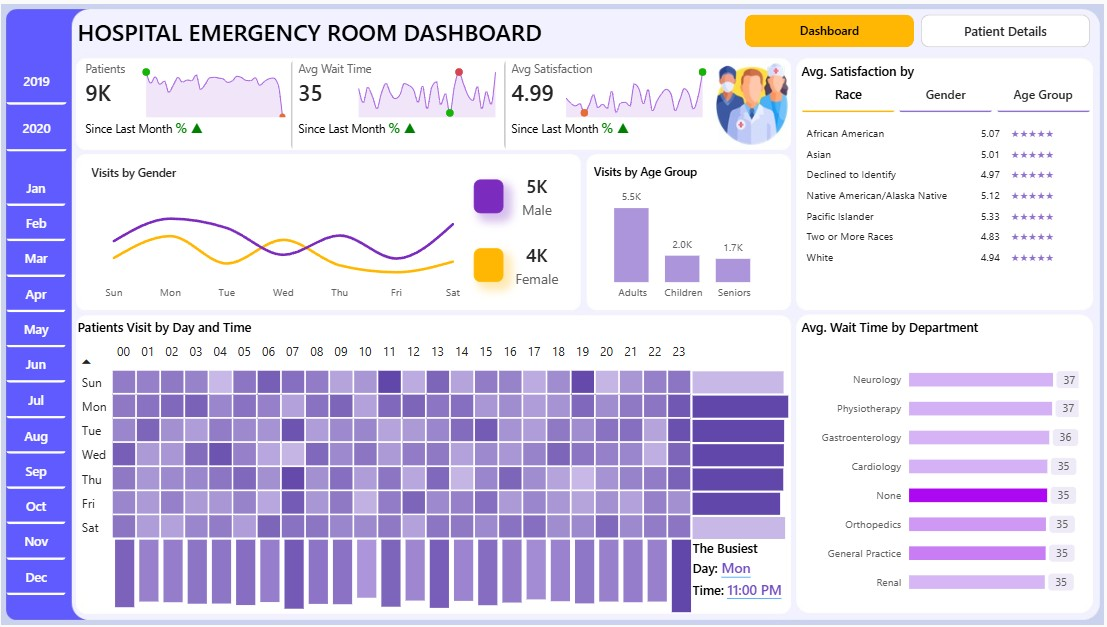

Layout of this report page (visuals, bound fields, positions):
{"tool":"powerbi","page":{"name":"Dashboard","canvas":[1920,1080],"ordinal":0},"visuals":[{"type":"advancedSlicerVisual","fields":{"Values":["Date Table.Year"]},"box":[325.7,238.9,70.6,108.6],"z":0},{"type":"advancedSlicerVisual","fields":{"Values":["Date Table.Month Name"]},"box":[326.8,370.1,69.3,495.6],"z":1000},{"type":"cardVisual","fields":{"Data":["_All Measures.Patients Visits","_All Measures.Avg Wait Time","_All Measures.Avg Satisfaction Score"]},"box":[408.5,239.4,736.2,108.5],"z":2000},{"type":"areaChart","fields":{"Category":["Date Table.Day"],"Y":["_All Measures.Patients Visit","_All Measures.Patients Visit Max Value","_All Measures.Patients Visit Min Value"]},"box":[461.7,227.7,210,95.7],"z":3000},{"type":"areaChart","fields":{"Category":["Date Table.Day"],"Y":["_All Measures.Avg Wait Time","_All Measures.Avg Wait Time Max Value","_All Measures.Avg Wait Time Min Value"]},"box":[708.5,227.7,210.6,95.7],"z":4000},{"type":"areaChart","fields":{"Category":["Date Table.Day"],"Y":["_All Measures.Avg Satisfaction Score","_All Measures.Avg Satisfaction Score Max Value","_All Measures.Avg Satisfaction Score Min Value"]},"box":[949.3,227.5,210.1,95.7],"z":5000},{"type":"lineChart","title":"Visits by Gender","fields":{"Category":["Date Table.Day Name"],"Series":["Hospital_ER.Gender"],"Y":["_All Measures.Patients Visit"]},"box":[408,348,477.3,192],"z":6000},{"type":"cardVisual","fields":{"Data":["_All Measures.Patients Visit"]},"box":[891.4,370.4,100,56.8],"z":7000},{"type":"cardVisual","fields":{"Data":["_All Measures.Patients Visit"]},"box":[891.4,450.6,100,56.8],"z":8000},{"type":"shape","box":[867.9,379,34.6,39.5],"z":9000},{"type":"shape","box":[867.9,459.3,34.6,39.5],"z":10000},{"type":"clusteredColumnChart","title":"Visits by Age Group","fields":{"Category":["Hospital_ER.Age Range"],"Y":["_All Measures.Patients Visit"]},"box":[992,346.7,240,193.3],"z":11000},{"type":"tableEx","fields":{"Values":["Hospital_ER.Race","_All Measures.Avg Satisfaction Score","_All Measures.Score Rating"]},"box":[1232.4,270.3,352.7,258.1],"z":12000},{"type":"advancedSlicerVisual","fields":{"Values":["Satisfaction Parameter.Satisfaction Parameter"]},"box":[1247.3,260.8,337.8,41.9],"z":13000},{"type":"textbox","box":[1247.3,243.2,140.5,32.4],"z":14000},{"type":"clusteredBarChart","fields":{"Category":["Hospital_ER.Department Referral"],"Y":["_All Measures.Avg Wait Time"]},"box":[1247.3,567.6,337.8,316.2],"z":15000},{"type":"textbox","box":[1247.1,540,237.1,32.9],"z":16000},{"type":"pivotTable","fields":{"Columns":["Hospital_ER.Hour"],"Rows":["Date Table.Day Name"],"Values":["_All Measures.Patients Visit"]},"box":[393.2,551.4,751.4,270.3],"z":17000},{"type":"clusteredBarChart","fields":{"Category":["Date Table.Day Name"],"Y":["_All Measures.Patients Visit"]},"box":[1105.7,580,152.9,232.9],"z":17001},{"type":"clusteredColumnChart","fields":{"Category":["Hospital_ER.Hour"],"Y":["_All Measures.Patients Visit"]},"box":[435.7,774.3,700,155.7],"z":17002},{"type":"textbox","box":[408.6,540,237.1,32.9],"z":17003},{"type":"textbox","box":[1121.4,797.1,111.4,45.7],"z":17004},{"type":"textbox","box":[1121.4,818.6,95.7,48.6],"z":17005},{"type":"textbox","box":[1121.4,842.9,131.4,61.4],"z":17006},{"type":"textbox","box":[408.5,190.2,541.5,48.8],"z":17007},{"type":"pageNavigator","box":[1182.3,188.7,400,38.7],"z":17008}]}

Visuals, with their boxes in screenshot pixels (x1, y1, x2, y2), scaled from the page's 1920x1080 canvas onto the 1107x627 screenshot:
advancedSlicerVisual - Date Table.Year: <bbox>188, 139, 228, 202</bbox>
advancedSlicerVisual - Date Table.Month Name: <bbox>188, 215, 228, 503</bbox>
cardVisual - _All Measures.Patients Visits x _All Measures.Avg Wait Time: <bbox>236, 139, 660, 202</bbox>
areaChart - Date Table.Day x _All Measures.Patients Visit: <bbox>266, 132, 387, 188</bbox>
areaChart - Date Table.Day x _All Measures.Avg Wait Time: <bbox>408, 132, 530, 188</bbox>
areaChart - Date Table.Day x _All Measures.Avg Satisfaction Score: <bbox>547, 132, 668, 188</bbox>
"Visits by Gender" lineChart: <bbox>235, 202, 510, 314</bbox>
cardVisual - _All Measures.Patients Visit: <bbox>514, 215, 572, 248</bbox>
cardVisual - _All Measures.Patients Visit: <bbox>514, 262, 572, 295</bbox>
shape: <bbox>500, 220, 520, 243</bbox>
shape: <bbox>500, 267, 520, 290</bbox>
"Visits by Age Group" clusteredColumnChart: <bbox>572, 201, 710, 314</bbox>
tableEx - Hospital_ER.Race x _All Measures.Avg Satisfaction Score: <bbox>711, 157, 914, 307</bbox>
advancedSlicerVisual - Satisfaction Parameter.Satisfaction Parameter: <bbox>719, 151, 914, 176</bbox>
textbox: <bbox>719, 141, 800, 160</bbox>
clusteredBarChart - Hospital_ER.Department Referral x _All Measures.Avg Wait Time: <bbox>719, 330, 914, 513</bbox>
textbox: <bbox>719, 314, 856, 333</bbox>
pivotTable - Hospital_ER.Hour x Date Table.Day Name: <bbox>227, 320, 660, 477</bbox>
clusteredBarChart - Date Table.Day Name x _All Measures.Patients Visit: <bbox>638, 337, 726, 472</bbox>
clusteredColumnChart - Hospital_ER.Hour x _All Measures.Patients Visit: <bbox>251, 450, 655, 540</bbox>
textbox: <bbox>236, 314, 372, 333</bbox>
textbox: <bbox>647, 463, 711, 489</bbox>
textbox: <bbox>647, 475, 702, 503</bbox>
textbox: <bbox>647, 489, 722, 525</bbox>
textbox: <bbox>236, 110, 548, 139</bbox>
pageNavigator: <bbox>682, 110, 912, 132</bbox>
